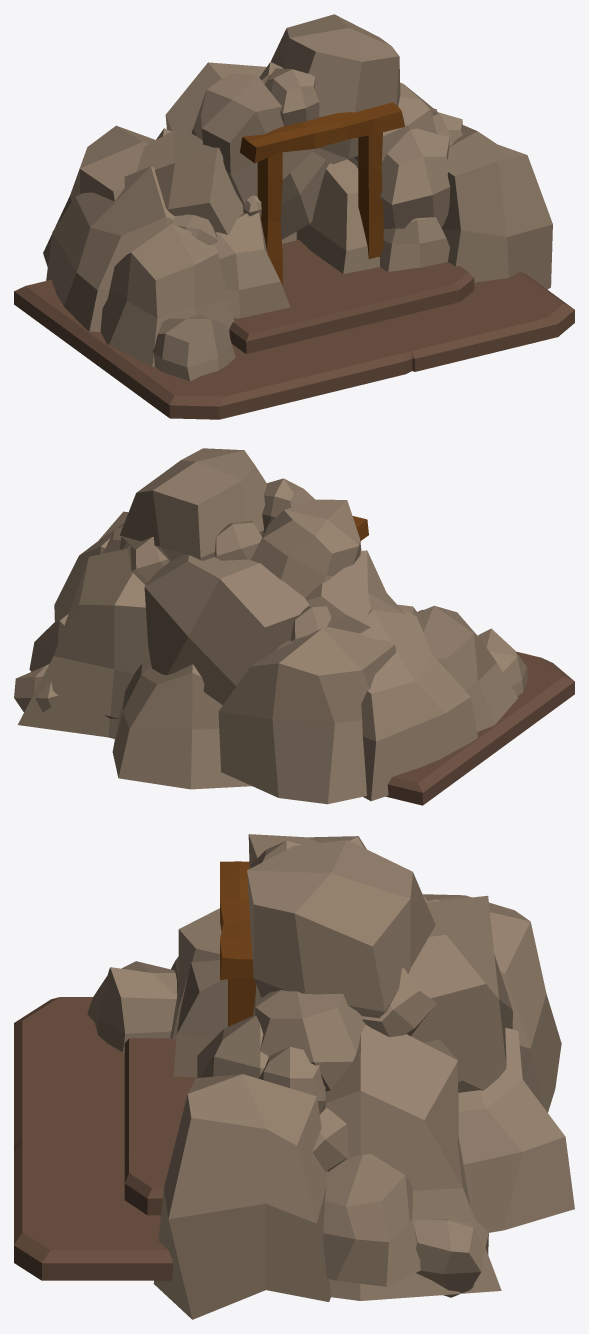
The model's file is Entrada-cav.fbx.
3 renders of one model, top to bottom at view 1: azimuth 30°, elevation 25°; view 2: azimuth 150°, elevation 25°; view 3: azimuth 270°, elevation 25°, orthographic. The views are drawn at different scales.
Visible parts, largest first — view 1: Cubo.001, Cube, Cubo.002, Cubo, Cubo.014, Cubo.004, Cubo.011, Cubo.016, Cubo.015, Cubo.009, Cubo.007, Cubo.005 (+8 smaller); view 2: Cube.001, Cubo.013, Cubo.007, Cubo.014, Cubo.012, Cubo.011, Cubo.016, Cubo.001, Cubo, Cubo.015, Cubo.018, Cube (+6 smaller); view 3: Cube, Cubo.001, Cubo.011, Cubo.007, Cubo.012, Cubo.013, Cubo.003, Cubo.002, Cube.001, Cubo.010, Cubo.008, Cubo.004 (+8 smaller).
Part boxes in pixels (<box>): Cubo.001: <box>14,271,574,419</box>; Cube: <box>441,125,552,289</box>; Cubo.002: <box>229,240,474,354</box>; Cubo: <box>100,224,234,367</box>; Cubo.014: <box>46,166,174,331</box>; Cubo.004: <box>240,102,404,285</box>; Cubo.011: <box>270,14,400,163</box>; Cubo.016: <box>191,73,315,205</box>; Cubo.015: <box>136,130,243,234</box>; Cubo.009: <box>380,128,451,229</box>; Cubo.007: <box>296,108,436,273</box>; Cubo.005: <box>211,212,290,318</box>; Cube.001: <box>218,627,396,804</box>; Cubo.013: <box>144,554,309,704</box>; Cubo.007: <box>18,548,149,738</box>; Cubo.014: <box>360,609,477,801</box>; Cubo.012: <box>112,658,251,789</box>; Cubo.011: <box>120,448,266,561</box>; Cubo.016: <box>251,499,361,597</box>; Cubo.001: <box>104,651,574,805</box>; Cubo: <box>415,605,518,731</box>; Cubo.015: <box>305,550,405,633</box>; Cubo.018: <box>214,520,262,560</box>; Cube: <box>54,511,128,621</box>; Cube: <box>153,1074,331,1319</box>; Cubo.001: <box>14,997,469,1280</box>; Cubo.011: <box>247,840,435,1018</box>; Cubo.007: <box>325,1024,501,1300</box>; Cubo.012: <box>458,1027,574,1232</box>; Cubo.013: <box>408,895,512,1092</box>; Cubo.003: <box>323,1153,420,1286</box>; Cubo.002: <box>124,1038,197,1215</box>; Cube.001: <box>423,894,561,1112</box>; Cubo.010: <box>253,990,365,1091</box>; Cubo.008: <box>87,961,177,1052</box>; Cubo.004: <box>220,861,255,1026</box>.
Bounding box in the file's own units: 1072 × 607 × 888.
